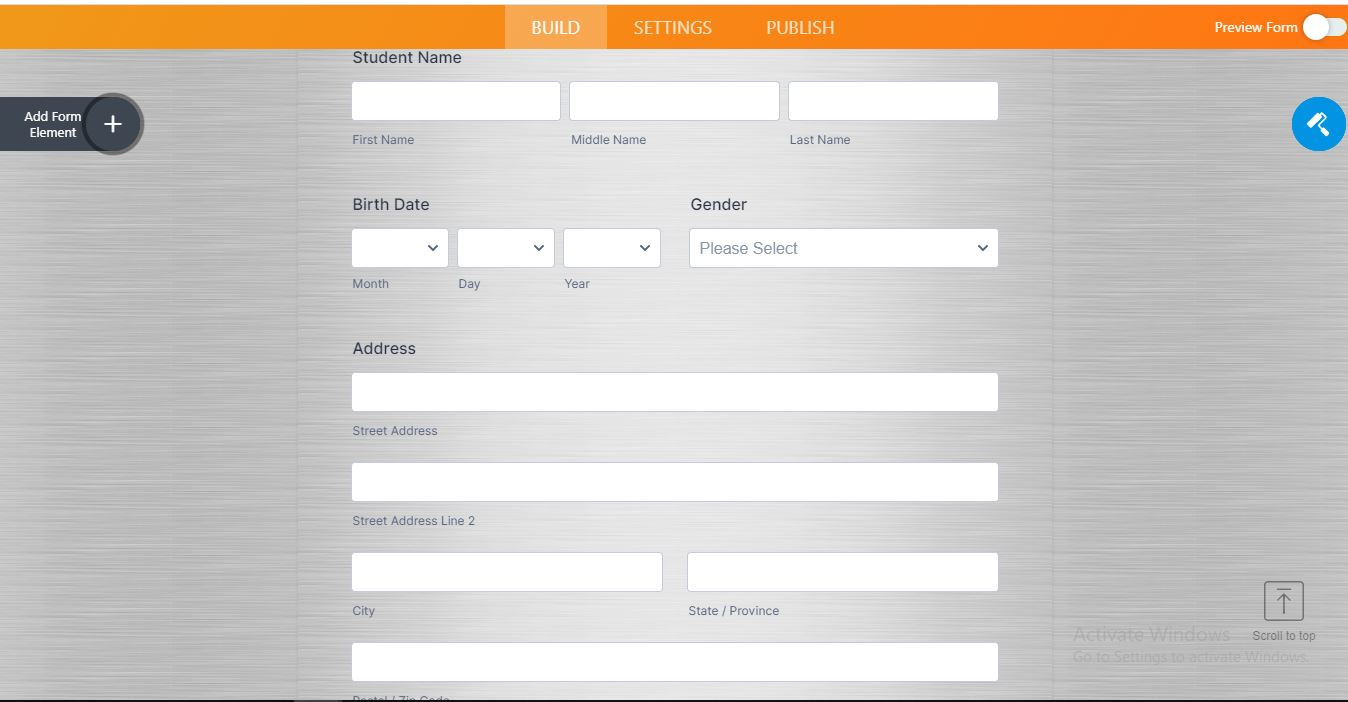Button: (84, 89, 152, 160), (1288, 90, 1346, 161)
Menu Bar: (495, 4, 849, 50)
Text Field: (350, 370, 1002, 417), (352, 638, 1002, 680), (353, 463, 998, 505), (344, 73, 565, 134), (353, 552, 664, 592), (690, 551, 1000, 591), (691, 229, 997, 269), (569, 73, 783, 129), (785, 74, 1004, 121), (349, 231, 446, 268), (461, 228, 553, 267), (562, 229, 660, 264)
